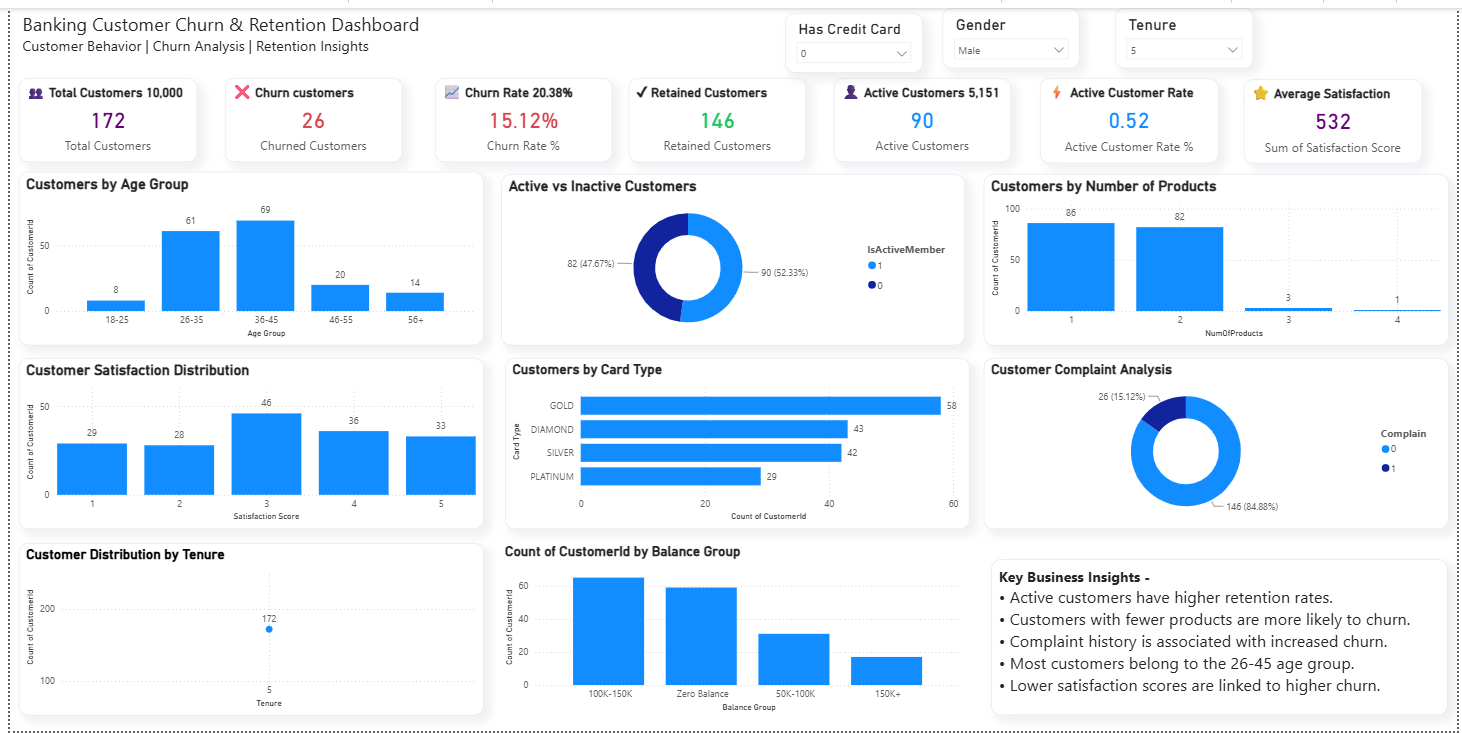

This screenshot's page, from the dashboard's own definition file:
{"tool":"powerbi","page":{"name":"Dashboard","canvas":[1900,950],"ordinal":10},"visuals":[{"type":"textbox","box":[10.9,0,1889.4,91.7],"z":0},{"type":"card","title":"👥 Total Customers 10,000","fields":{"Values":["Customer-Churn-Records.Total Customers"]},"box":[11.3,92.3,234.7,110.1],"z":1000},{"type":"card","title":"❌ Churn customers","fields":{"Values":["Customer-Churn-Records.Churned Customers"]},"box":[281.6,92.3,233.1,110.1],"z":2000},{"type":"card","title":"📈 Churn Rate 20.38%","fields":{"Values":["Customer-Churn-Records.Churn Rate %"]},"box":[558.4,92.3,233.1,110.1],"z":3000},{"type":"card","title":"✔  Retained Customers","fields":{"Values":["Customer-Churn-Records.Retained Customers"]},"box":[812.6,92.3,233.1,110.1],"z":4000},{"type":"card","title":"👤 Active Customers 5,151","fields":{"Values":["Customer-Churn-Records.Active Customers"]},"box":[1081.3,92.3,233.1,110.1],"z":5000},{"type":"card","title":"⚡  Active Customer Rate","fields":{"Values":["Customer-Churn-Records.Active Customer Rate %"]},"box":[1353.2,92.3,234.7,111.7],"z":6000},{"type":"card","title":"⭐  Average Satisfaction","fields":{"Values":["Sum(Customer-Churn-Records.Satisfaction Score)"]},"box":[1620.3,93.9,234.7,110.1],"z":7000},{"type":"slicer","fields":{"Values":["Customer-Churn-Records.Gender"]},"box":[1223.9,0,180.4,79.3],"z":8000},{"type":"slicer","fields":{"Values":["Customer-Churn-Records.Tenure"]},"box":[1450.9,0,181.9,79.3],"z":9000},{"type":"donutChart","title":"Active vs Inactive Customers","fields":{"Category":["Customer-Churn-Records.IsActiveMember"],"Y":["CountNonNull(Customer-Churn-Records.CustomerId)"]},"box":[645,218.3,608.9,224.9],"z":10000},{"type":"clusteredColumnChart","title":"Customers by Number of Products","fields":{"Category":["Customer-Churn-Records.NumOfProducts"],"Y":["CountNonNull(Customer-Churn-Records.CustomerId)"]},"box":[1278.6,218.3,610.6,224.9],"z":11000},{"type":"columnChart","title":"Customer Satisfaction Distribution","fields":{"Category":["Customer-Churn-Records.Satisfaction Score"],"Y":["CountNonNull(Customer-Churn-Records.CustomerId)"]},"box":[11.5,459.6,610.6,224.9],"z":12000},{"type":"donutChart","title":"Customer Complaint Analysis","fields":{"Category":["Customer-Churn-Records.Complain"],"Y":["CountNonNull(Customer-Churn-Records.CustomerId)"]},"box":[1278.6,459.6,610.6,224.9],"z":13000},{"type":"barChart","title":"Customers by Card Type","fields":{"Category":["Customer-Churn-Records.Card Type"],"Y":["CountNonNull(Customer-Churn-Records.CustomerId)"]},"box":[650,459.6,610.6,224.9],"z":14000},{"type":"lineChart","title":"Customer Distribution by Tenure","fields":{"Category":["Customer-Churn-Records.Tenure"],"Y":["CountNonNull(Customer-Churn-Records.CustomerId)"]},"box":[11.5,702.5,610.6,226.5],"z":15000},{"type":"clusteredColumnChart","title":"Customers by Age Group","fields":{"Y":["CountNonNull(Customer-Churn-Records.CustomerId)"],"Category":["Customer-Churn-Records.Age Group"]},"box":[11.5,215,610.6,228.1],"z":16000},{"type":"textbox","box":[1288.4,723.8,599.1,205.2],"z":17000},{"type":"clusteredColumnChart","fields":{"Y":["CountNonNull(Customer-Churn-Records.CustomerId)"],"Category":["Customer-Churn-Records.Balance Group"]},"box":[645,702.5,610.6,226.5],"z":18000},{"type":"slicer","fields":{"Values":["Customer-Churn-Records.HasCrCard"]},"box":[1017.6,6.6,180.5,78.8],"z":19000}]}

Visuals, with their boxes in screenshot pixels (x1, y1, x2, y2), scaled from the page's 1900x950 canvas onto the 1462x733 screenshot:
textbox: x1=8, y1=0, x2=1461, y2=71
"👥 Total Customers 10,000" card: x1=9, y1=71, x2=189, y2=156
"❌ Churn customers" card: x1=217, y1=71, x2=396, y2=156
"📈 Churn Rate 20.38%" card: x1=430, y1=71, x2=609, y2=156
"✔  Retained Customers" card: x1=625, y1=71, x2=805, y2=156
"👤 Active Customers 5,151" card: x1=832, y1=71, x2=1011, y2=156
"⚡  Active Customer Rate" card: x1=1041, y1=71, x2=1222, y2=157
"⭐  Average Satisfaction" card: x1=1247, y1=72, x2=1427, y2=157
slicer - Customer-Churn-Records.Gender: x1=942, y1=0, x2=1081, y2=61
slicer - Customer-Churn-Records.Tenure: x1=1116, y1=0, x2=1256, y2=61
"Active vs Inactive Customers" donutChart: x1=496, y1=168, x2=965, y2=342
"Customers by Number of Products" clusteredColumnChart: x1=984, y1=168, x2=1454, y2=342
"Customer Satisfaction Distribution" columnChart: x1=9, y1=355, x2=479, y2=528
"Customer Complaint Analysis" donutChart: x1=984, y1=355, x2=1454, y2=528
"Customers by Card Type" barChart: x1=500, y1=355, x2=970, y2=528
"Customer Distribution by Tenure" lineChart: x1=9, y1=542, x2=479, y2=717
"Customers by Age Group" clusteredColumnChart: x1=9, y1=166, x2=479, y2=342
textbox: x1=991, y1=558, x2=1452, y2=717
clusteredColumnChart - CountNonNull(Customer-Churn-Records.CustomerId) x Customer-Churn-Records.Balance Group: x1=496, y1=542, x2=966, y2=717
slicer - Customer-Churn-Records.HasCrCard: x1=783, y1=5, x2=922, y2=66
